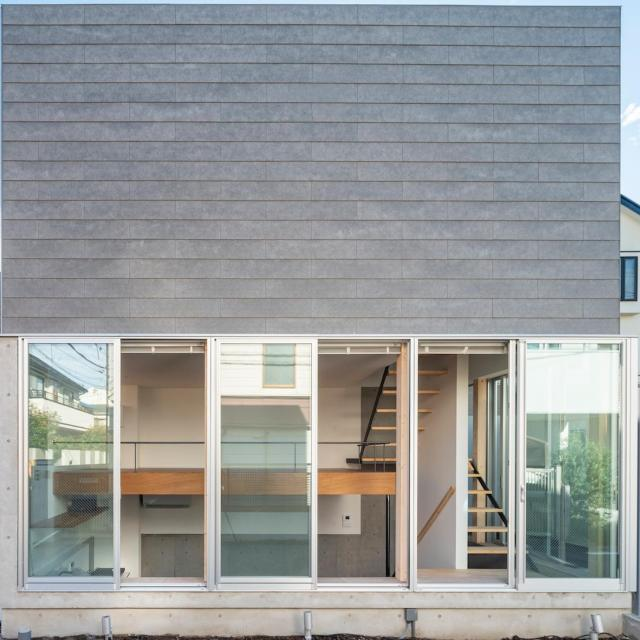door: (519, 338, 626, 592), (205, 339, 316, 583), (20, 327, 121, 585)
wall: (1, 0, 637, 633)
